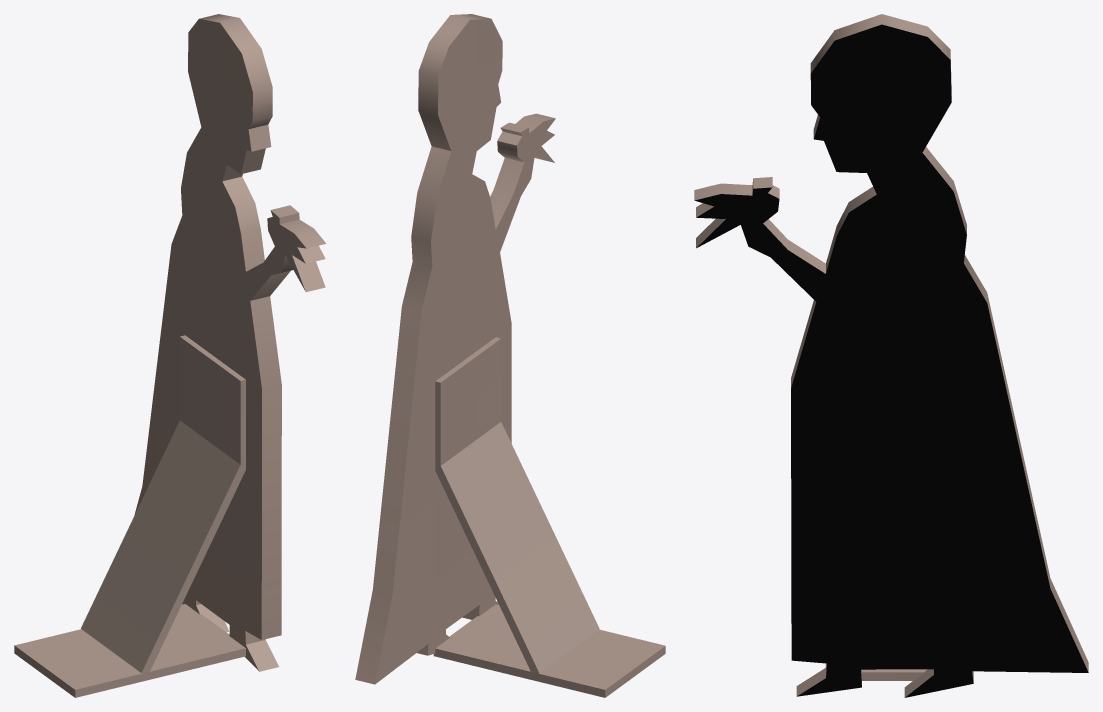
Rendered from Jente 1.FBX.
The picture shows the model from 3 angles, left to right: view 1: azimuth 30°, elevation 25°; view 2: azimuth 150°, elevation 25°; view 3: azimuth 270°, elevation 25°; orthographic projection. The views are drawn at different scales.
Visible parts, largest first — view 1: Jente 1; view 2: Jente 1; view 3: Jente 1.
Part boxes in pixels (x1=…): Jente 1: x1=14, y1=14, x2=326, y2=697; Jente 1: x1=355, y1=14, x2=665, y2=697; Jente 1: x1=694, y1=14, x2=1088, y2=697.
Size of the model in its own units: 28.83 by 89.79 by 47.68.
